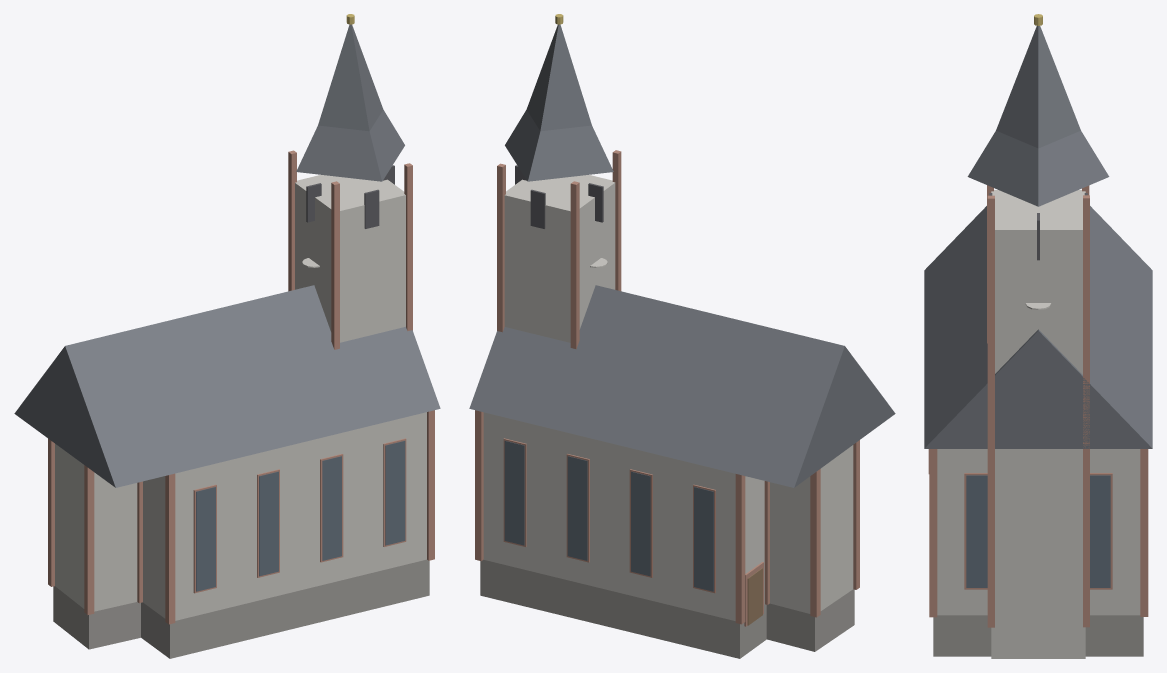
Rendered from landmark-church-johanniter-kirche.glb.
3 views of the same model, side by side, from view 1: azimuth 30°, elevation 25°; view 2: azimuth 150°, elevation 25°; view 3: azimuth 270°, elevation 25° (orthographic). The views are drawn at different scales.
Parts seen in each view (by area): view 1: building; view 2: building; view 3: building.
Part boxes in pixels (x1,y1,x2,y2): building: (14,14,440,658); building: (469,14,895,658); building: (924,14,1152,658).
Size of the model in its own units: 24.23 by 37.67 by 12.52.
